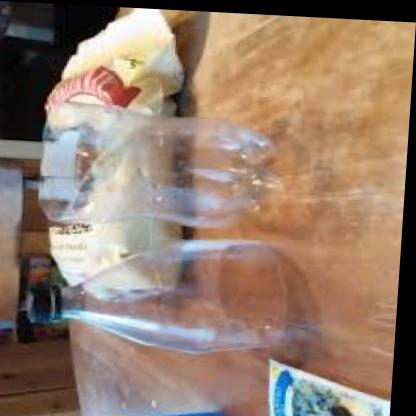Plastic: (20, 236, 290, 355)
